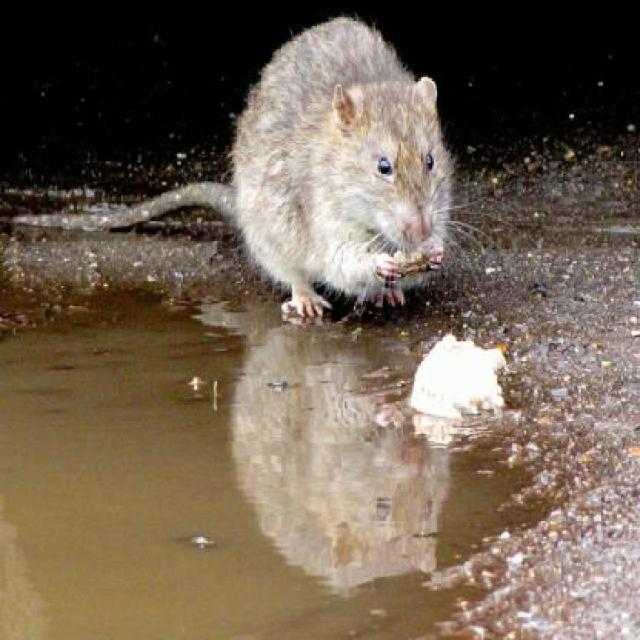Mouse: (208, 12, 465, 340)
